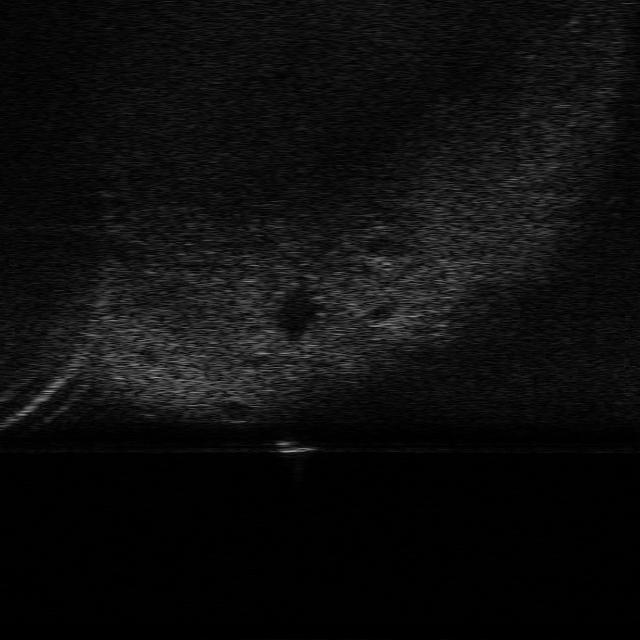cube: (270, 440, 319, 457)
